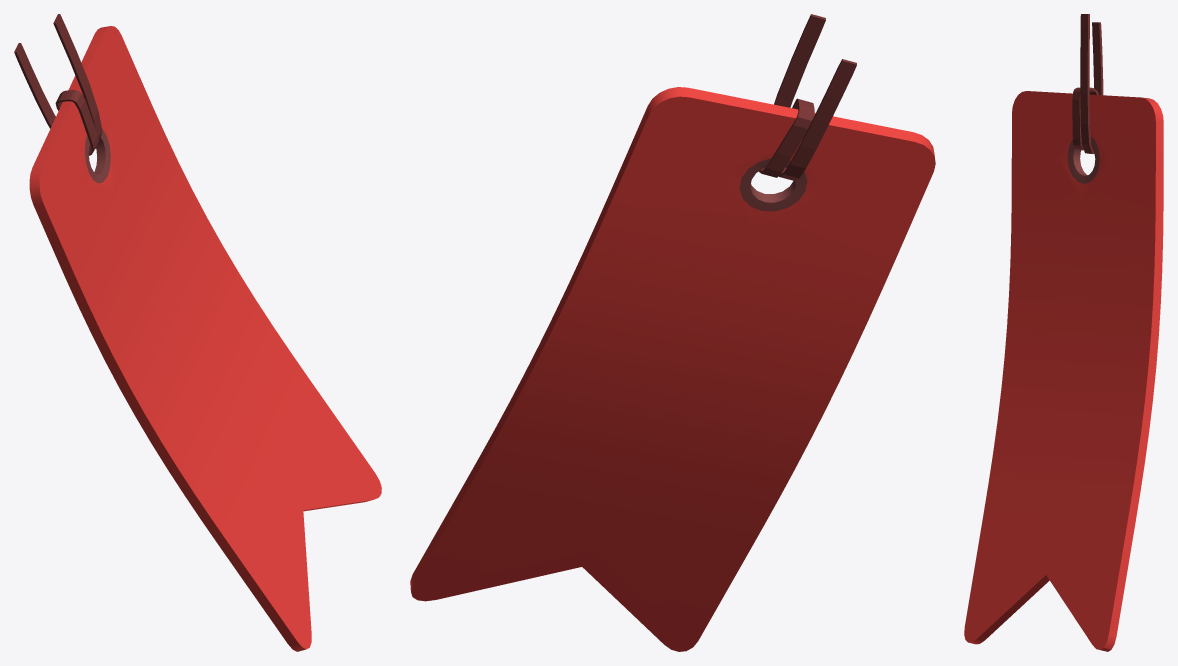
File: bookmark.gltf
3 renders of one model, left to right at view 1: azimuth 30°, elevation 25°; view 2: azimuth 150°, elevation 25°; view 3: azimuth 270°, elevation 25°, orthographic. The views are drawn at different scales.
Parts seen in each view (by area): view 1: Plane.330; view 2: Plane.330; view 3: Plane.330.
Part boxes in pixels (<box>): Plane.330: <box>14,14,381,651</box>; Plane.330: <box>410,14,935,651</box>; Plane.330: <box>964,14,1163,651</box>.
Bounding box in the file's own units: 1.52 × 2.31 × 0.7519.
1 material, 1 textured.
